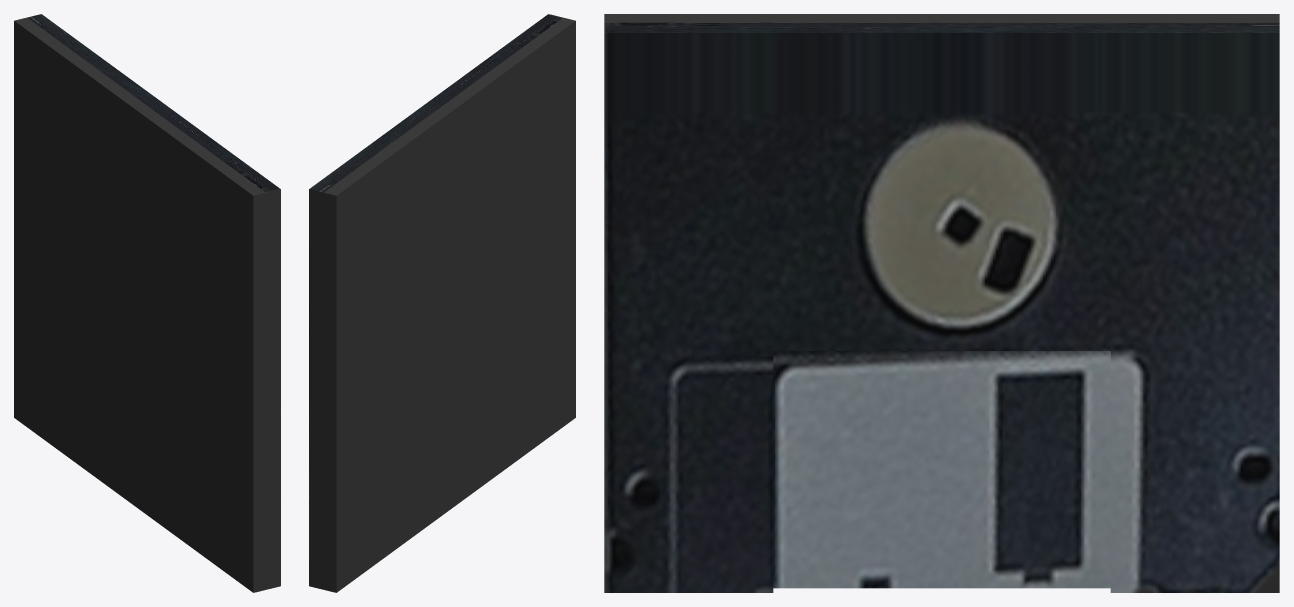
The model's file is flobbyDisk.fbx.
3 views of the same model, side by side, from view 1: azimuth 30°, elevation 25°; view 2: azimuth 150°, elevation 25°; view 3: azimuth 270°, elevation 25° (orthographic). The views are drawn at different scales.
Parts seen in each view (by area): view 1: Cube; view 2: Cube; view 3: Cube.
Boxes of the visible parts, x1,y1,x2,y2 form: Cube: (14,14,280,592); Cube: (309,14,575,592); Cube: (604,14,1279,592).
Size of the model in its own units: 16.78 by 232 by 254.
Materials: 1 (1 with a texture image).
